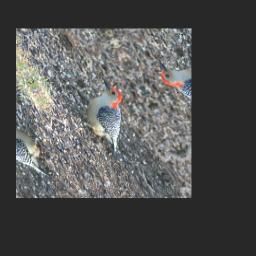Woodpecker: (59, 76, 151, 160)
